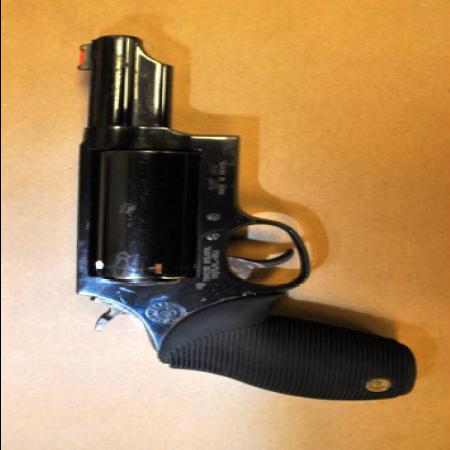Pistol: (59, 34, 414, 398)
